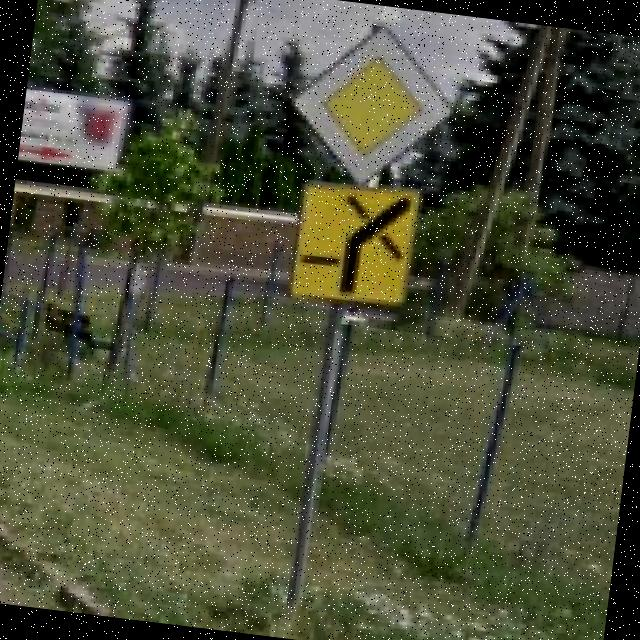Droga z pierwszenstwem: (280, 13, 464, 194)
